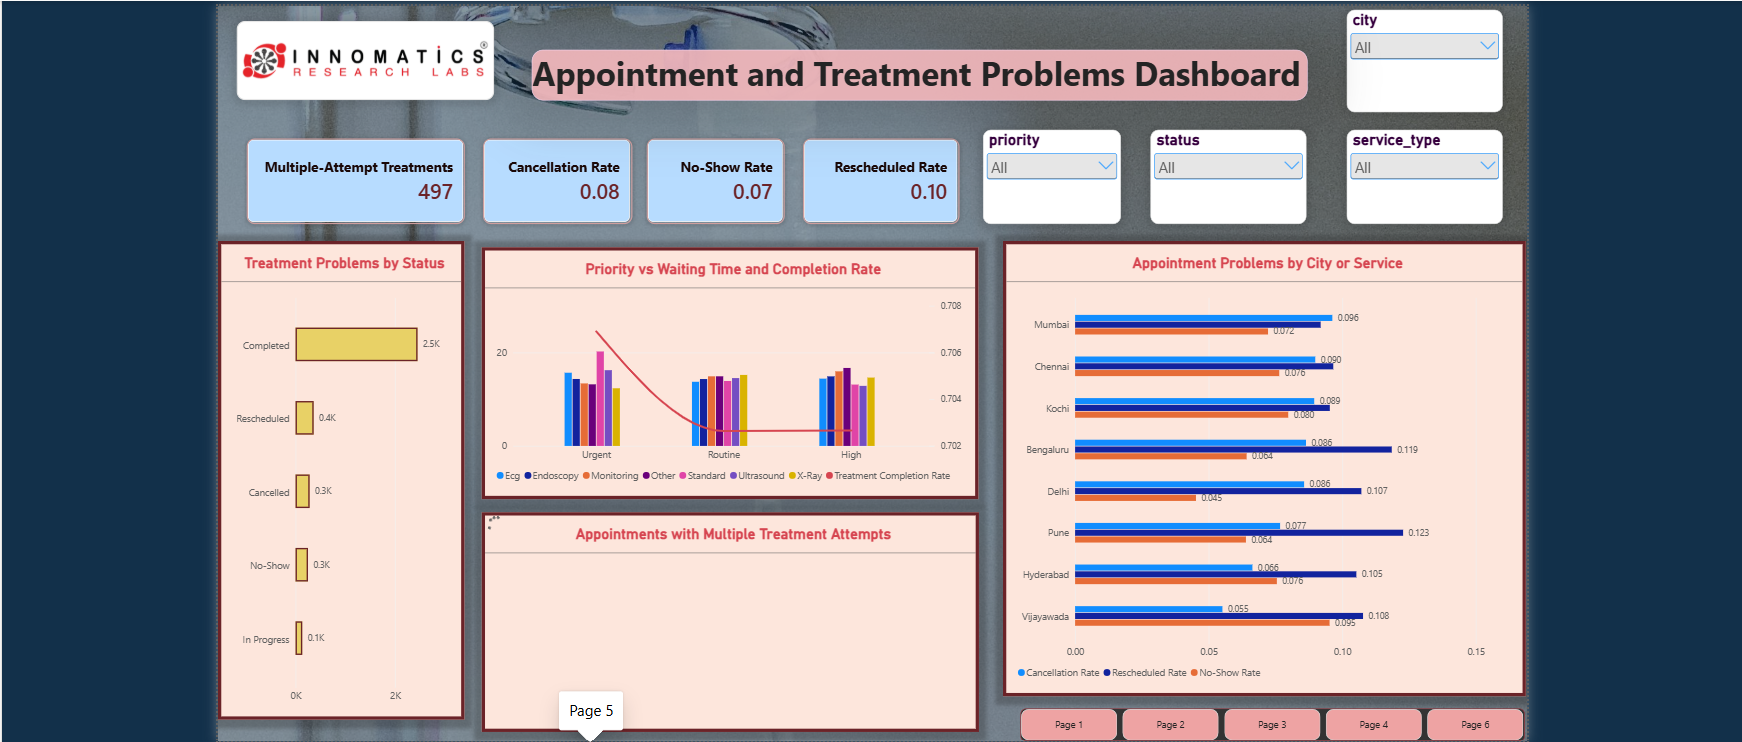

What the dashboard file says about the page in this screenshot:
{"tool":"powerbi","page":{"name":"Page 5","canvas":[1920,1080],"ordinal":4},"visuals":[{"type":"cardVisual","fields":{"Data":["treatments.Rescheduled Rate"]},"box":[858.8,194.1,229.3,126],"z":0},{"type":"cardVisual","fields":{"Data":["treatments.Multiple-Attempt Treatments"]},"box":[41.3,194.1,320,125.9],"z":1000},{"type":"cardVisual","fields":{"Data":["treatments.Cancellation Rate"]},"box":[388.1,194.1,218.8,125.9],"z":2000},{"type":"cardVisual","fields":{"Data":["treatments.No-Show Rate"]},"box":[629.7,194.1,202.3,125.9],"z":3000},{"type":"barChart","title":"Appointments with Multiple Treatment Attempts","fields":{"Category":["appointments.appointment_id"],"Y":["appointments.Treatment Attempts"]},"box":[387.3,742,729.3,322.1],"z":4000},{"type":"clusteredBarChart","title":"Treatment Problems by Status","fields":{"Category":["treatments.status"],"Y":["treatments.Total_Treatments"]},"box":[0,345.6,361.9,702.1],"z":5000},{"type":"clusteredBarChart","title":"Appointment Problems by City or Service","fields":{"Category":["patients.city","appointments.service_type"],"Y":["treatments.Cancellation Rate","treatments.Rescheduled Rate","treatments.No-Show Rate"]},"box":[1152.8,345.6,767.3,667.8],"z":6000},{"type":"lineClusteredColumnComboChart","title":"Priority vs Waiting Time and Completion Rate","fields":{"Category":["appointments.priority"],"Series":["rooms.equipment_type"],"Y":["appointments.Average_Waiting_time"],"Y2":["treatments.Treatment Completion Rate"]},"box":[387.3,354.7,728.8,369.5],"z":7000},{"type":"slicer","fields":{"Values":["appointments.service_type"]},"box":[1655.7,181.7,229.2,138.3],"z":8000},{"type":"slicer","fields":{"Values":["patients.city"]},"box":[1655.7,6.2,229,150],"z":9000},{"type":"textbox","box":[460.4,64.2,1138.3,74.2],"z":10000},{"type":"slicer","fields":{"Values":["appointments.priority"]},"box":[1123.1,181.7,202.3,138.3],"z":11000},{"type":"slicer","fields":{"Values":["treatments.status"]},"box":[1368.8,181.7,229.2,138.3],"z":12000},{"type":"image","box":[26.8,22.7,377.8,115.6],"z":13000},{"type":"pageNavigator","box":[1178.1,1031.5,740.2,48.9],"z":14000}]}

Visuals, with their boxes in screenshot pixels (x1, y1, x2, y2):
cardVisual - treatments.Rescheduled Rate: [797,136,952,222]
cardVisual - treatments.Multiple-Attempt Treatments: [241,136,459,222]
cardVisual - treatments.Cancellation Rate: [477,136,626,222]
cardVisual - treatments.No-Show Rate: [641,136,778,222]
"Appointments with Multiple Treatment Attempts" barChart: [476,509,972,727]
"Treatment Problems by Status" clusteredBarChart: [213,239,459,716]
"Appointment Problems by City or Service" clusteredBarChart: [996,239,1518,693]
"Priority vs Waiting Time and Completion Rate" lineClusteredColumnComboChart: [476,246,971,497]
slicer - appointments.service_type: [1338,128,1494,222]
slicer - patients.city: [1338,9,1494,111]
textbox: [526,48,1299,99]
slicer - appointments.priority: [976,128,1114,222]
slicer - treatments.status: [1143,128,1299,222]
image: [231,20,488,98]
pageNavigator: [1014,705,1516,739]
